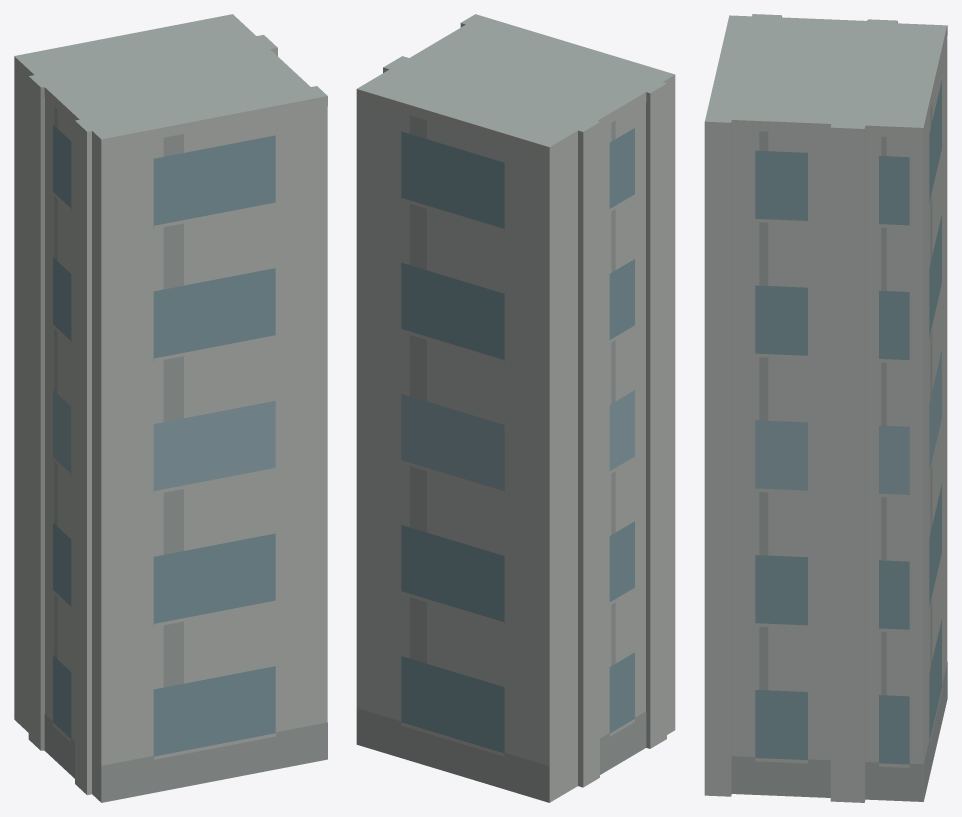
Rendered from survey-upis-32494851.glb.
3 views of the same model, side by side, from view 1: azimuth 30°, elevation 25°; view 2: azimuth 150°, elevation 25°; view 3: azimuth 270°, elevation 25° (orthographic). The views are drawn at different scales.
Visible parts, largest first — view 1: survey-upis-32494851.tmp; view 2: survey-upis-32494851.tmp; view 3: survey-upis-32494851.tmp.
Part boxes in pixels (bbox=[...]): survey-upis-32494851.tmp: bbox=[14, 14, 327, 802]; survey-upis-32494851.tmp: bbox=[356, 14, 675, 802]; survey-upis-32494851.tmp: bbox=[704, 14, 947, 802].
Bounding box in the file's own units: 5.75 × 15.7 × 5.13.
